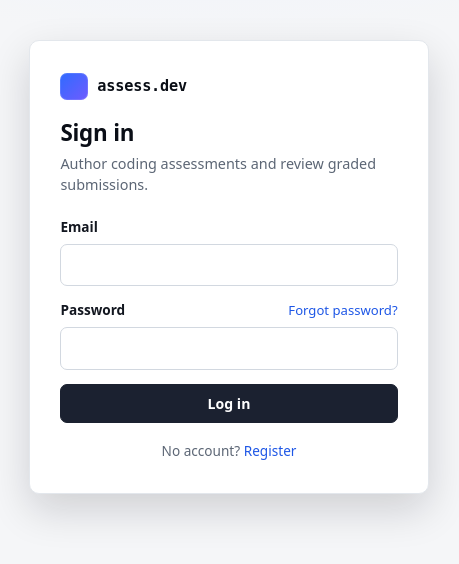
Test: LoginPage › shows an error message when login fails
In the field labelled "Email": (229,265) 60,244 -> 398,286, type "a@b.com"
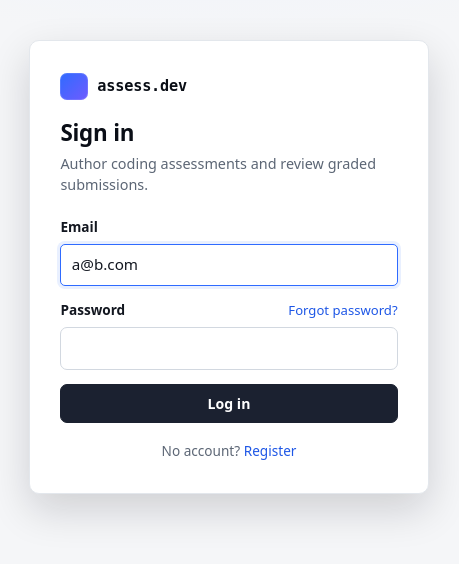
In the password field labelled "Password": (229,349) 60,327 -> 398,370, type "wrong"
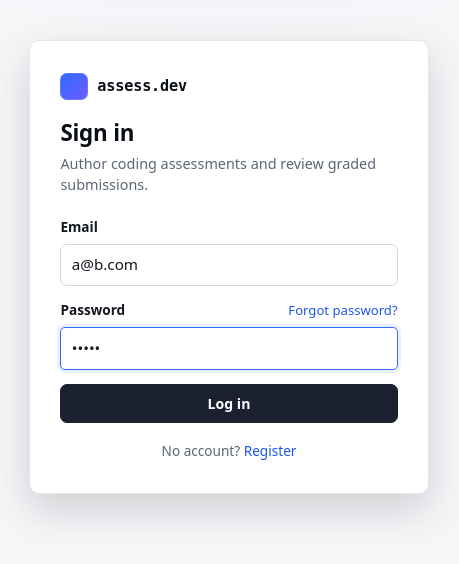
Click the button "Log in": (229,404) 60,384 -> 398,423
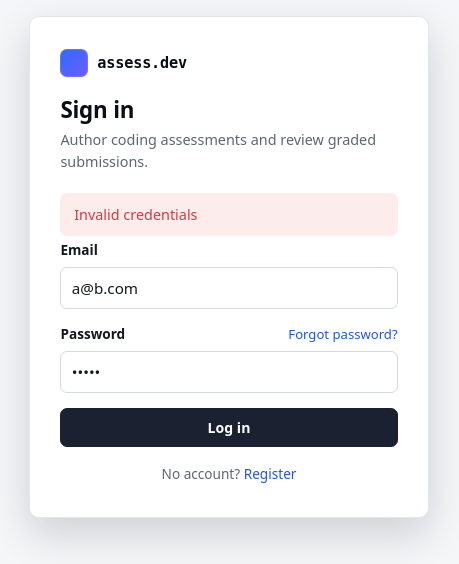
expect the message reads "Invalid credentials": met, box 74,205 -> 198,224
